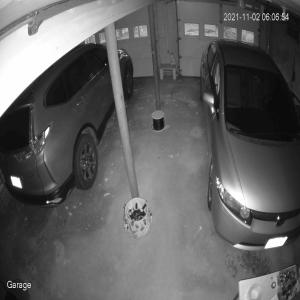honda civic: (199, 38, 300, 252)
honda crv: (0, 42, 135, 209)
tool bucket: (122, 196, 153, 239)
